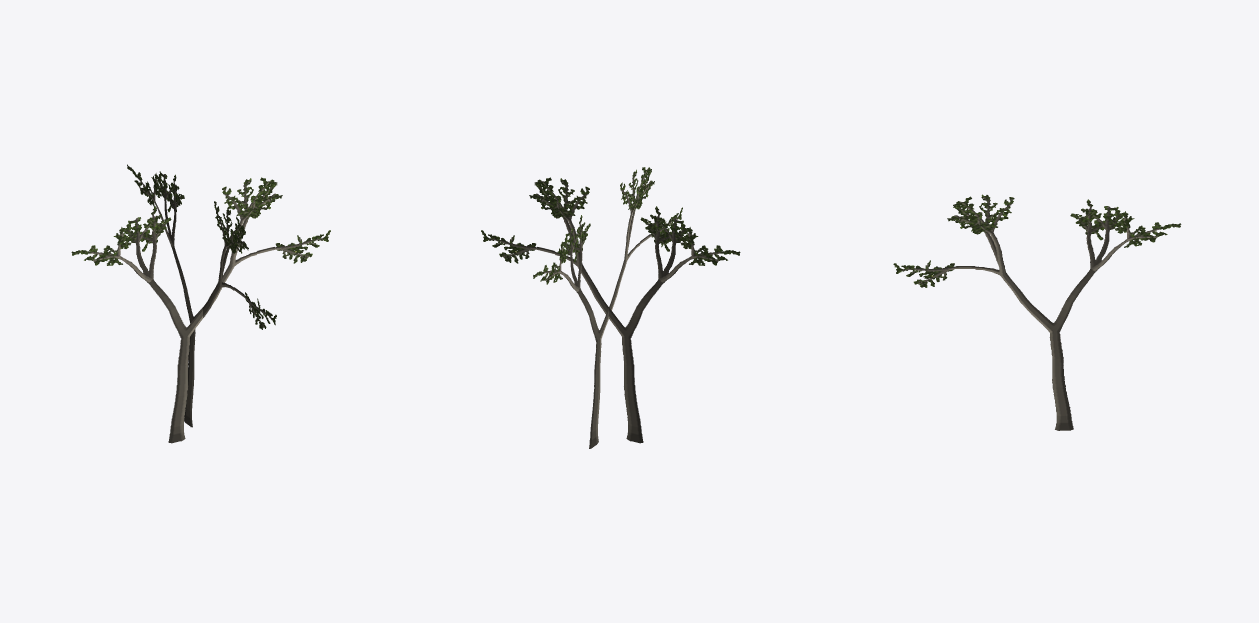
File: RiverBirch.glb
The picture shows the model from 3 angles, left to right: view 1: azimuth 30°, elevation 25°; view 2: azimuth 150°, elevation 25°; view 3: azimuth 270°, elevation 25°; orthographic projection. The views are drawn at different scales.
Bounding box in the file's own units: 8.01 × 8.83 × 8.01.
Materials: 1 (1 with a texture image).
